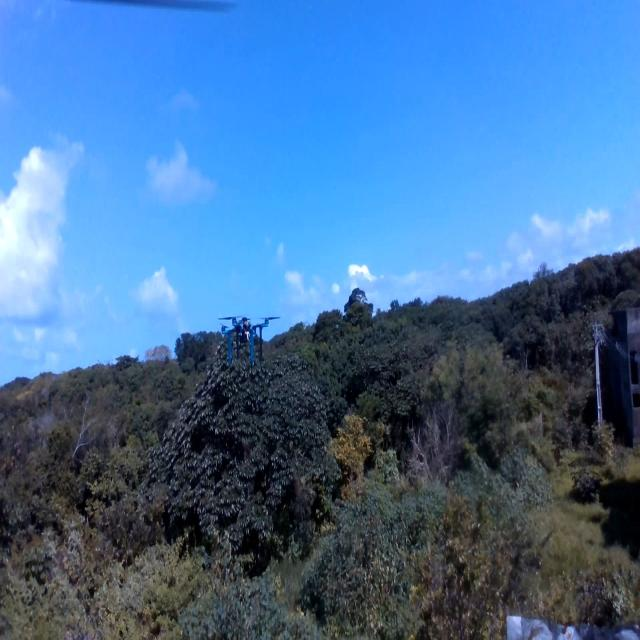-uav-: (211, 310, 280, 369)
